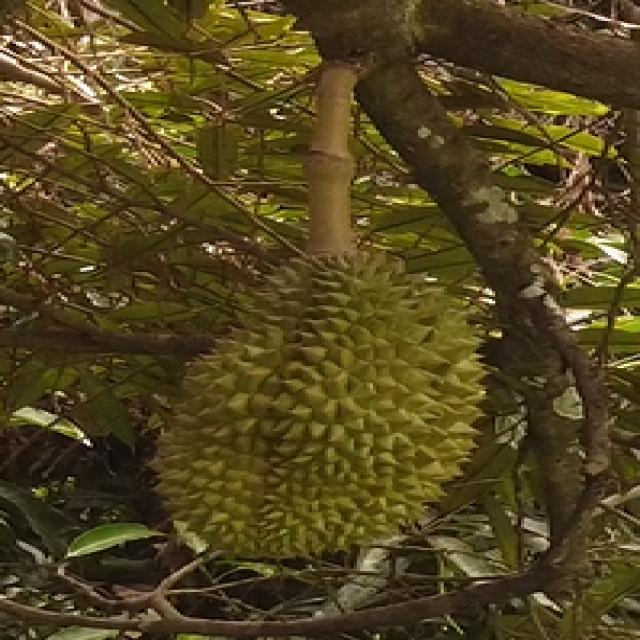immature: (151, 243, 487, 562)
